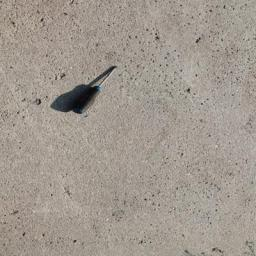FOD: (63, 65, 122, 117)
